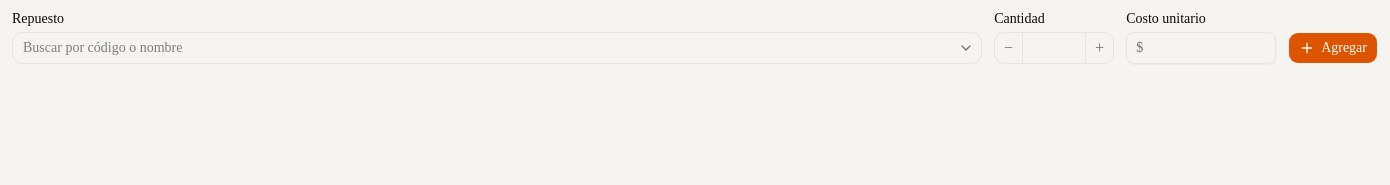
Test: AgregarEntradaItemForm › lists every repuesto by código, nombre, and stock once the combobox is open
Click the dropdown labelled "Repuesto" at coordinates (497, 48), box left=12, top=32, right=982, bottom=64
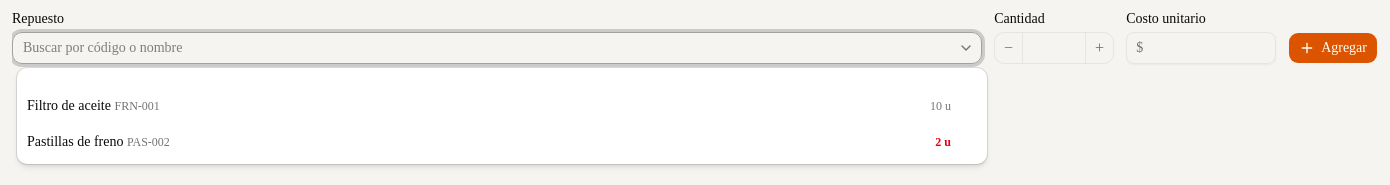
Now the option "Filtro de aceite FRN-001 10 u" is shown, box left=27, top=98, right=951, bottom=113
Now the option "Pastillas de freno PAS-002 2 u" is shown, box left=27, top=134, right=951, bottom=149
